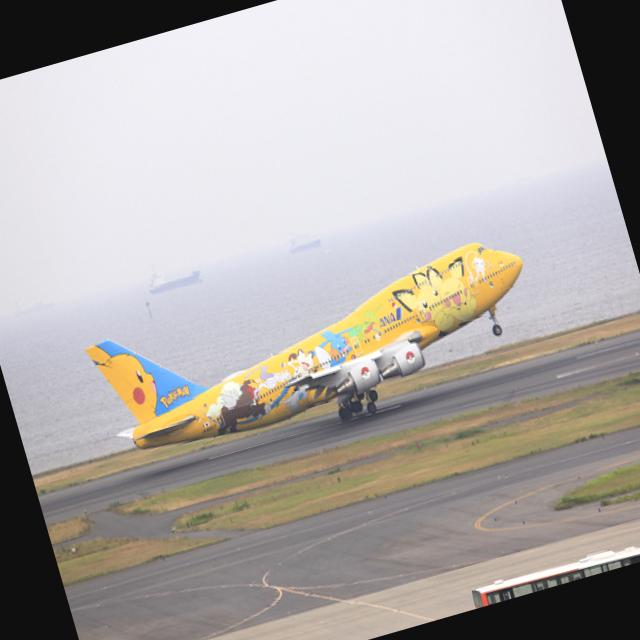Vehicle: (468, 538, 640, 606)
